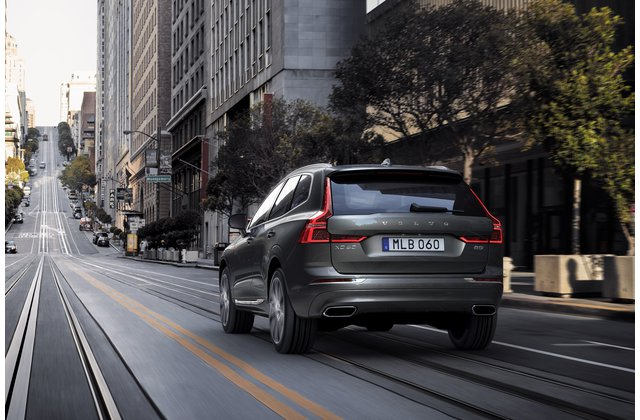car: (219, 164, 499, 355), (92, 231, 107, 248), (4, 240, 17, 257)
